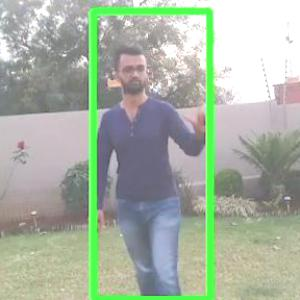land_hand: (181, 97, 217, 137)
